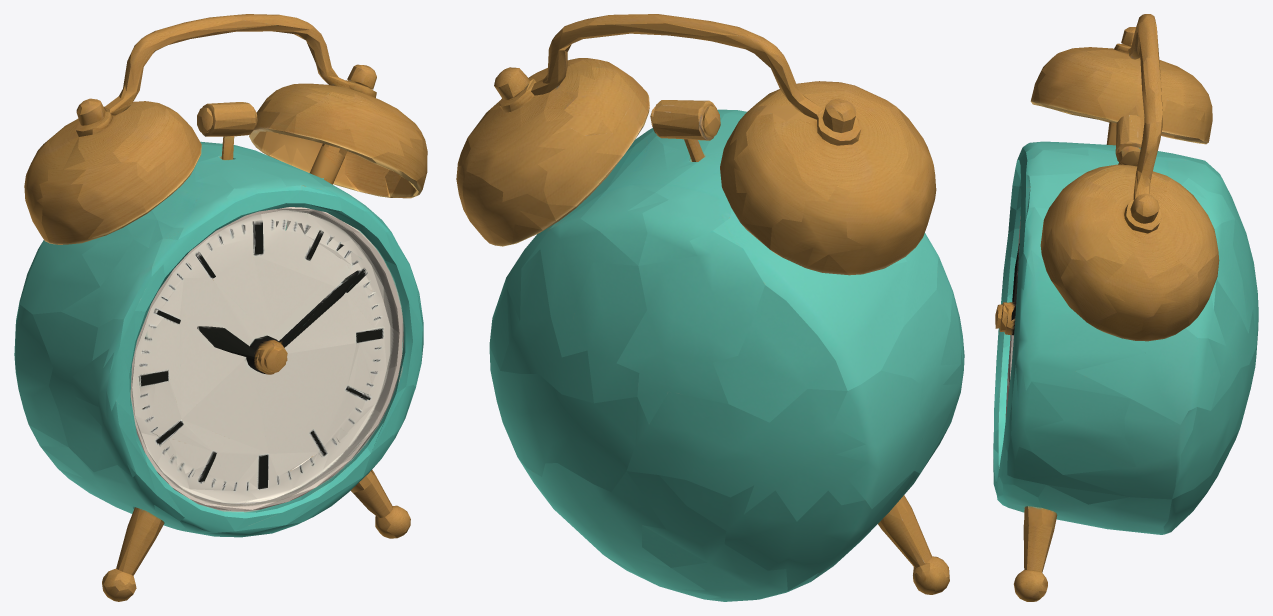
File: clock_meshy.glb
3 views of the same model, side by side, from view 1: azimuth 30°, elevation 25°; view 2: azimuth 150°, elevation 25°; view 3: azimuth 270°, elevation 25° (orthographic). The views are drawn at different scales.
Size of the model in its own units: 1.51 by 1.9 by 0.9151.
Materials: 1 (1 with a texture image).
